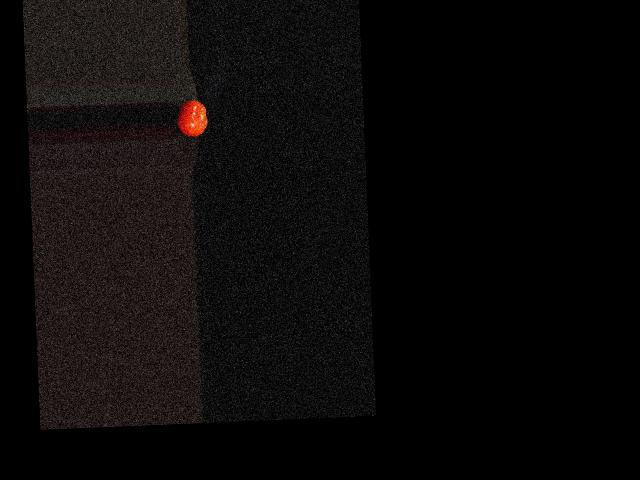tomato: (176, 100, 207, 137)
